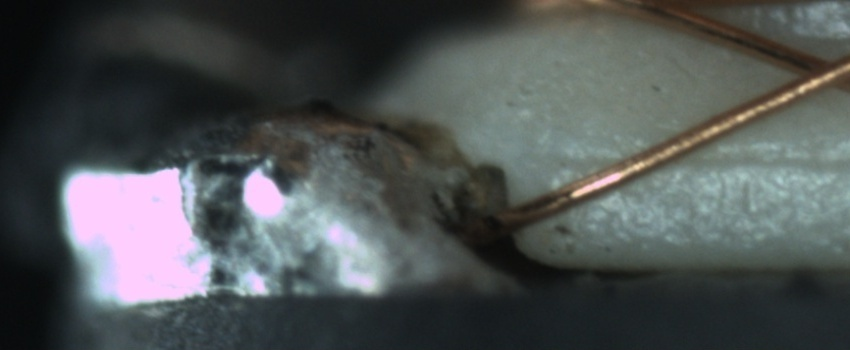CL: (770, 41, 850, 102)
DL: (562, 127, 849, 189)
